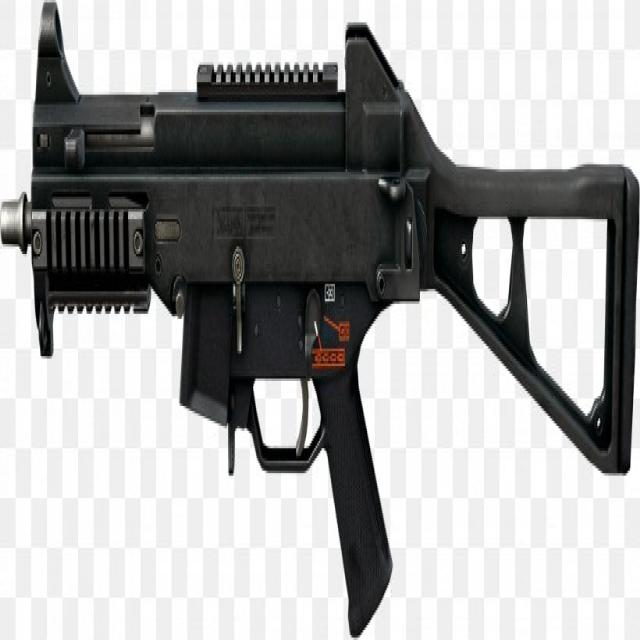SMG: (2, 7, 640, 640)
